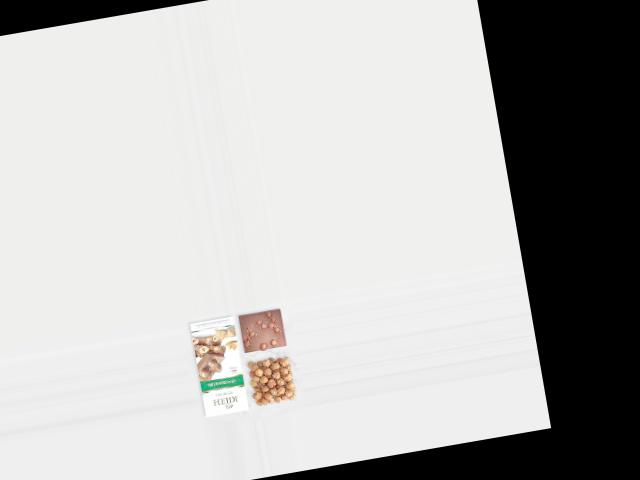chocolate: (235, 305, 292, 354)
